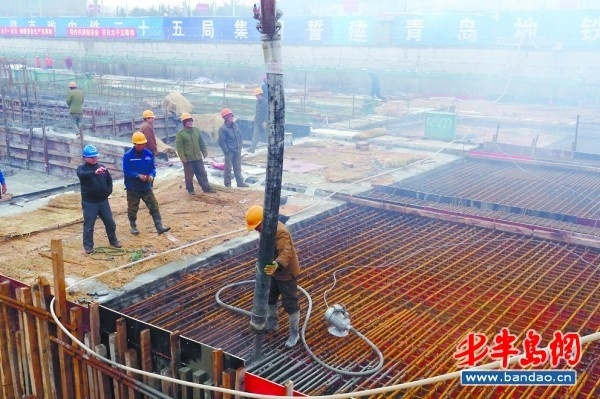blue: (81, 144, 98, 166)
yellow: (246, 205, 268, 233), (130, 131, 148, 151), (180, 112, 193, 129), (142, 108, 154, 125), (221, 108, 234, 123), (254, 86, 263, 100)
